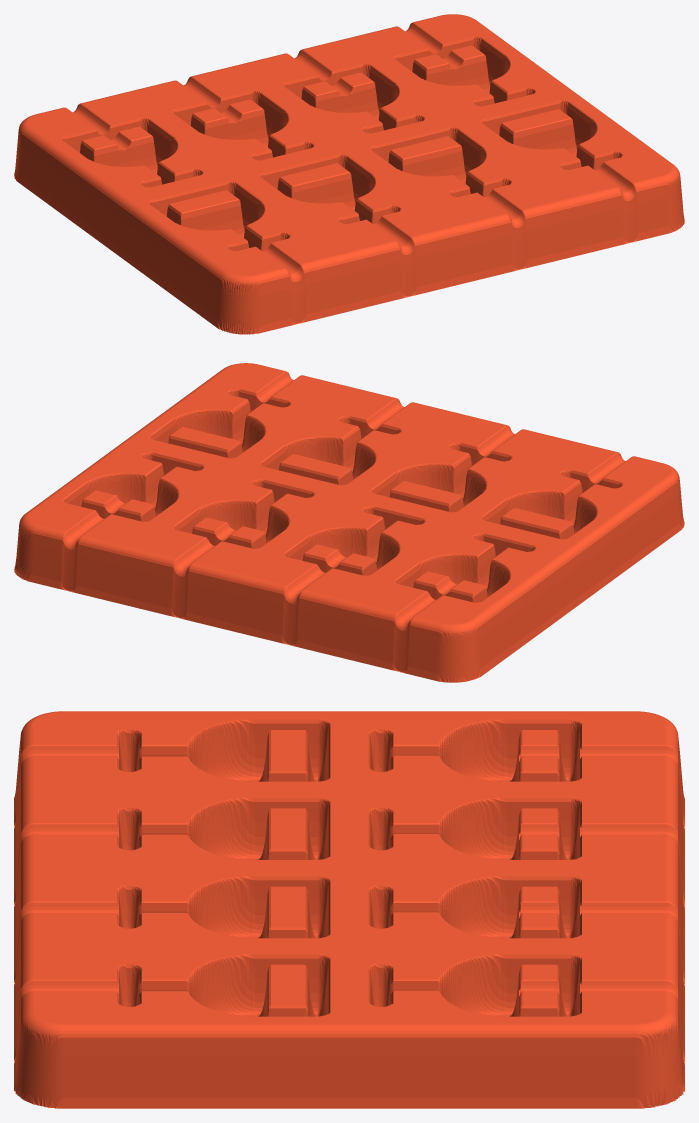
File: mold.glb
3 renders of one model, top to bottom at view 1: azimuth 30°, elevation 25°; view 2: azimuth 150°, elevation 25°; view 3: azimuth 270°, elevation 25°, orthographic. The views are drawn at different scales.
Parts seen in each view (by area): view 1: geometry_0; view 2: geometry_0; view 3: geometry_0.
Part boxes in pixels (x1=…): geometry_0: x1=14, y1=14, x2=684, y2=334; geometry_0: x1=14, y1=363, x2=684, y2=682; geometry_0: x1=14, y1=711, x2=684, y2=1108.
Size of the model in its own units: 0.1421 by 0.0155 by 0.1229.
